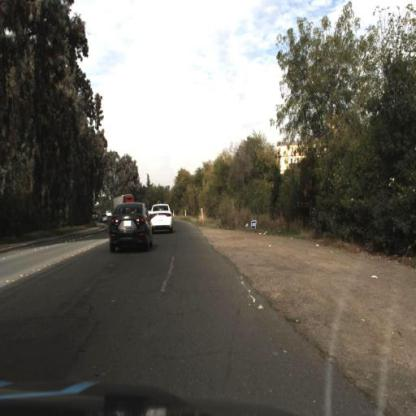car: (109, 202, 155, 257), (148, 197, 178, 240), (151, 204, 178, 235)
